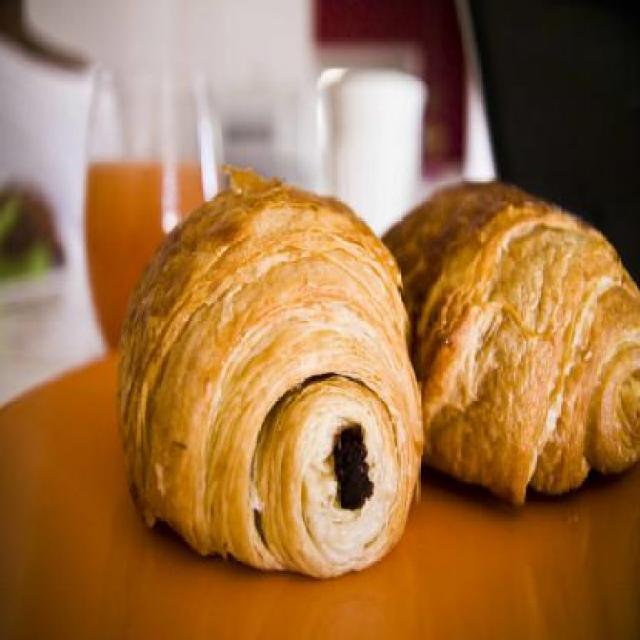Croissant: (116, 164, 430, 581), (380, 181, 640, 508)
